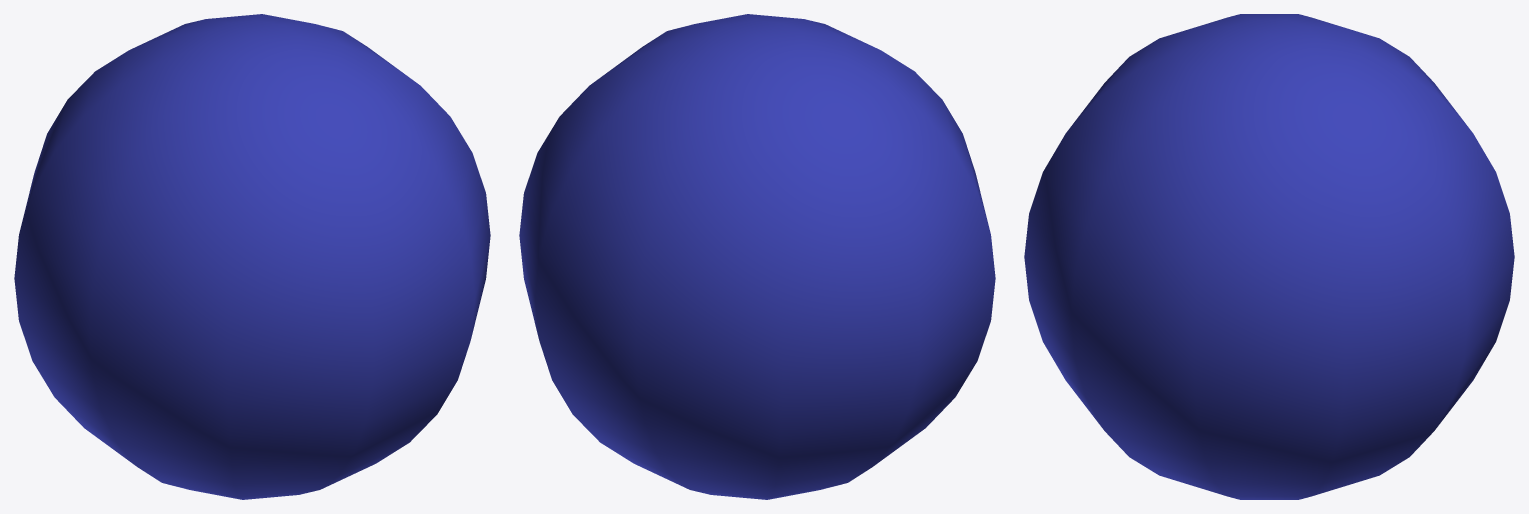
The model's file is GrowEyeBerry.fbx.
The picture shows the model from 3 angles, left to right: view 1: azimuth 30°, elevation 25°; view 2: azimuth 150°, elevation 25°; view 3: azimuth 270°, elevation 25°; orthographic projection.
Visible parts, largest first — view 1: Voroni Glaz Berry; view 2: Voroni Glaz Berry; view 3: Voroni Glaz Berry.
Boxes of the visible parts, x1,y1,x2,y2 form: Voroni Glaz Berry: [14, 14, 490, 499]; Voroni Glaz Berry: [519, 14, 995, 499]; Voroni Glaz Berry: [1024, 14, 1514, 499].
Bounding box in the file's own units: 8.46 × 8.9 × 8.9.
